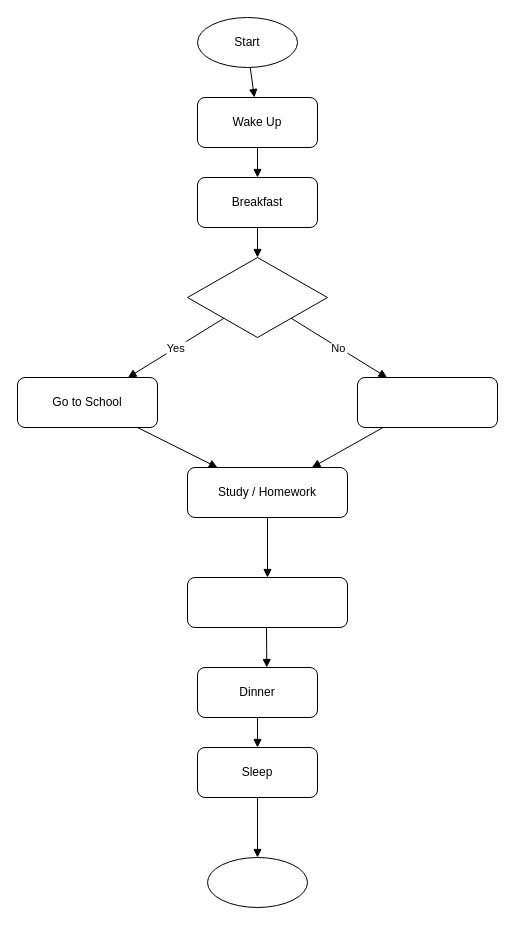
Some shapes in this 515 by 925 pixel diagram are drawn without their labels. The box of each missing label's shape, as (x1, y1, x2, y2) in pixels:
End: (206, 856, 308, 908)
Play/Relax: (186, 576, 348, 628)
Relax / Hobby: (356, 376, 498, 428)
School Day?: (186, 256, 328, 338)
